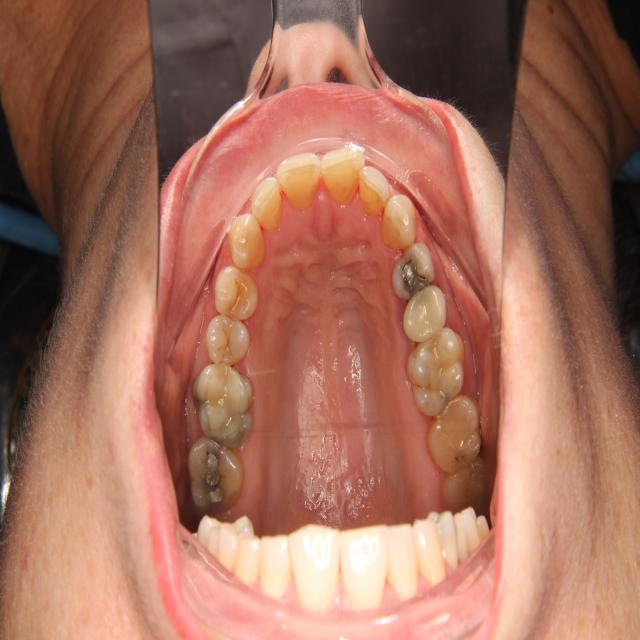tooth: (188, 357, 260, 454), (404, 322, 467, 420), (181, 431, 251, 519), (421, 382, 484, 474), (383, 230, 436, 306), (432, 447, 493, 513), (272, 146, 325, 215), (201, 306, 256, 369), (319, 139, 366, 212), (399, 278, 449, 346), (352, 155, 397, 226), (212, 264, 261, 326), (223, 210, 269, 274), (377, 187, 419, 255), (248, 170, 287, 237)
